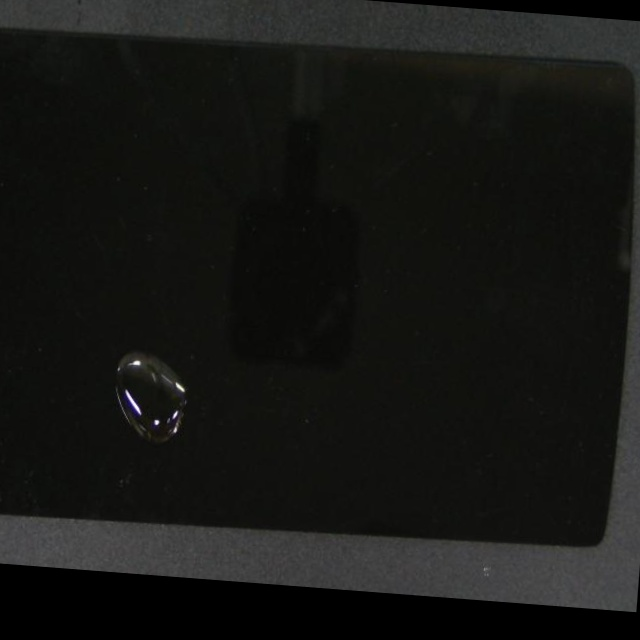oil: (17, 225, 321, 586)
